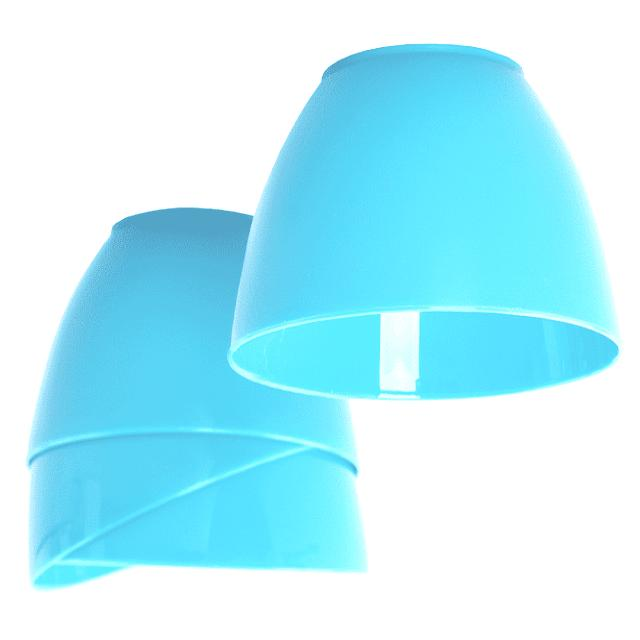Mangkok: (227, 0, 639, 418), (14, 187, 357, 622)
